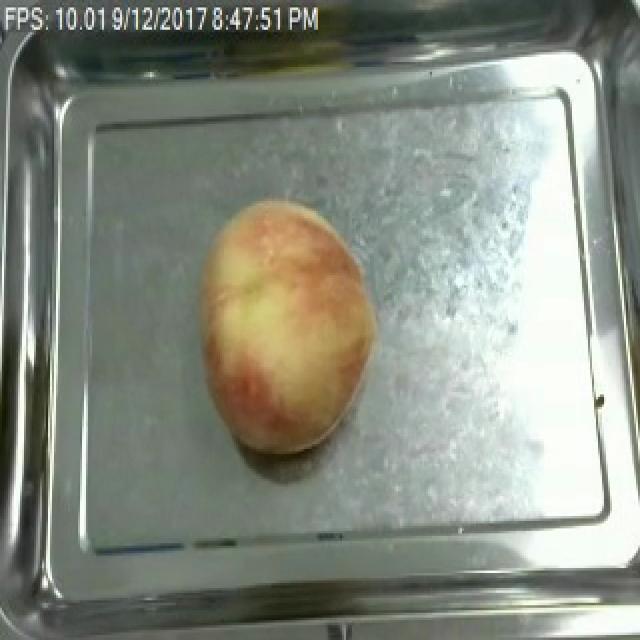Fruit: (190, 191, 388, 461)
